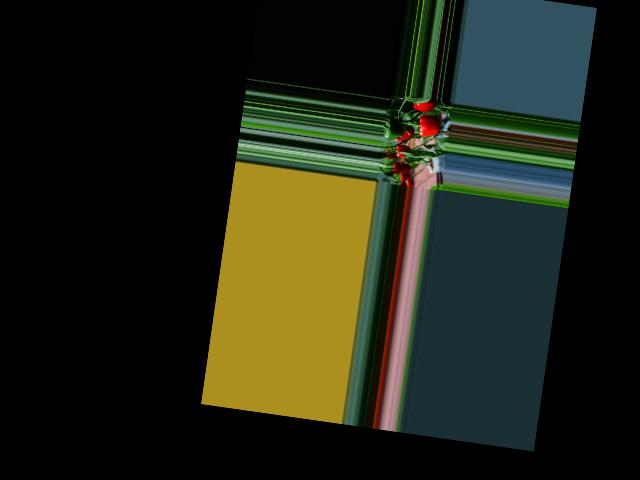bell_pepper: (391, 143, 415, 160)
